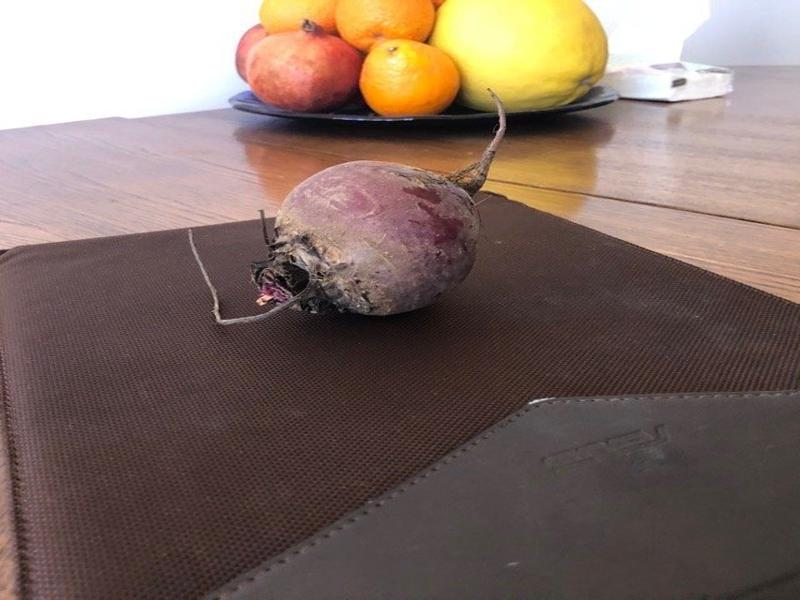Beet: (186, 86, 507, 324)
